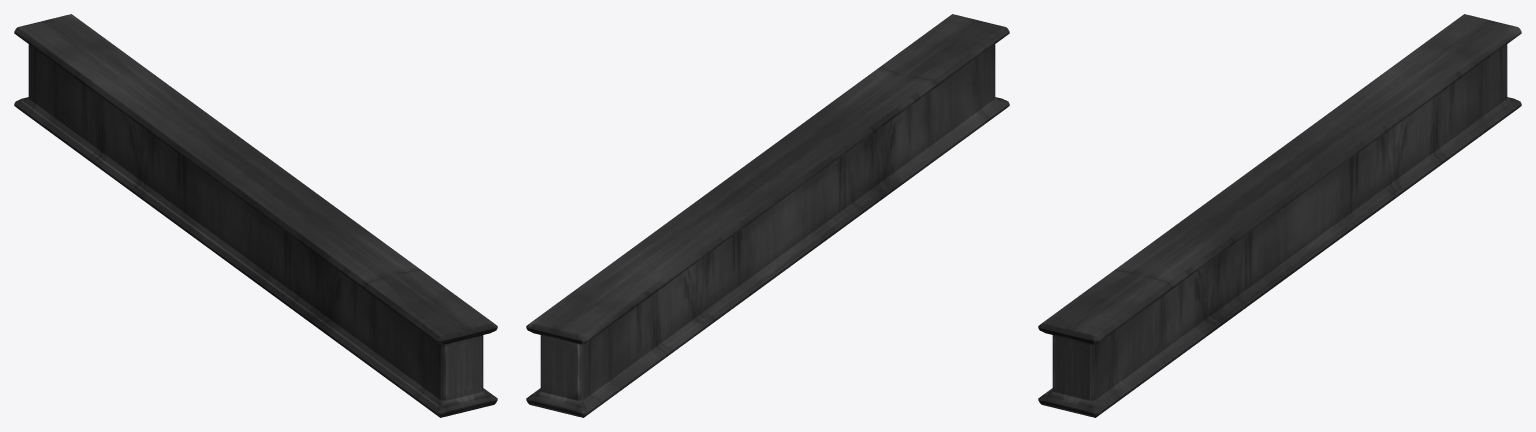
The model's file is StoneBuilds-FloorSide.fbx.
3 views of the same model, side by side, from view 1: azimuth 30°, elevation 25°; view 2: azimuth 150°, elevation 25°; view 3: azimuth 330°, elevation 25° (orthographic).
Visible parts, largest first — view 1: FloorSide; view 2: FloorSide; view 3: FloorSide.
Part boxes in pixels (left/top/right/bottom): FloorSide: left=14, top=14, right=497, bottom=417; FloorSide: left=526, top=14, right=1009, bottom=417; FloorSide: left=1038, top=14, right=1521, bottom=417.
Size of the model in its own units: 217 by 279 by 2647.
Materials: 1 (1 with a texture image).
